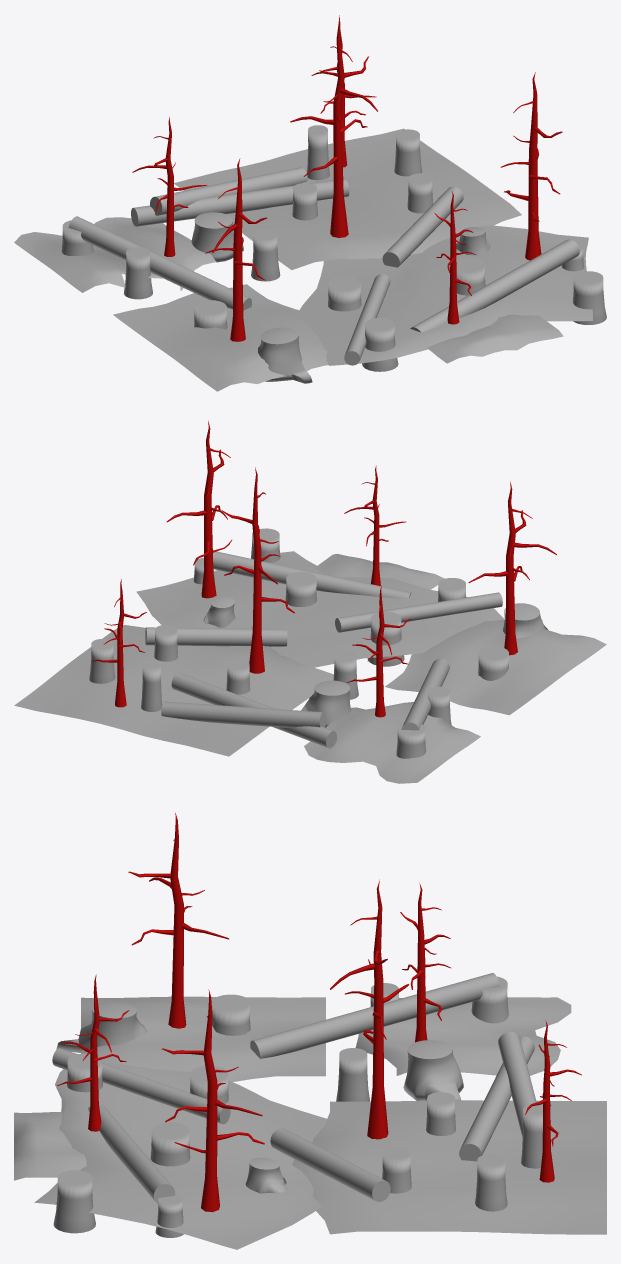
File: smForestFence.fbx
3 views of the same model, one above another, from view 1: azimuth 30°, elevation 25°; view 2: azimuth 150°, elevation 25°; view 3: azimuth 270°, elevation 25° (orthographic). The views are drawn at different scales.
Visible parts, largest first — view 1: polySurface304; view 2: polySurface304; view 3: polySurface304.
Boxes of the visible parts, x1,y1,x2,y2 form: polySurface304: (14, 15, 606, 391); polySurface304: (14, 421, 606, 783); polySurface304: (14, 812, 606, 1249).
Size of the model in its own units: 0.9477 by 0.5024 by 0.9486.
